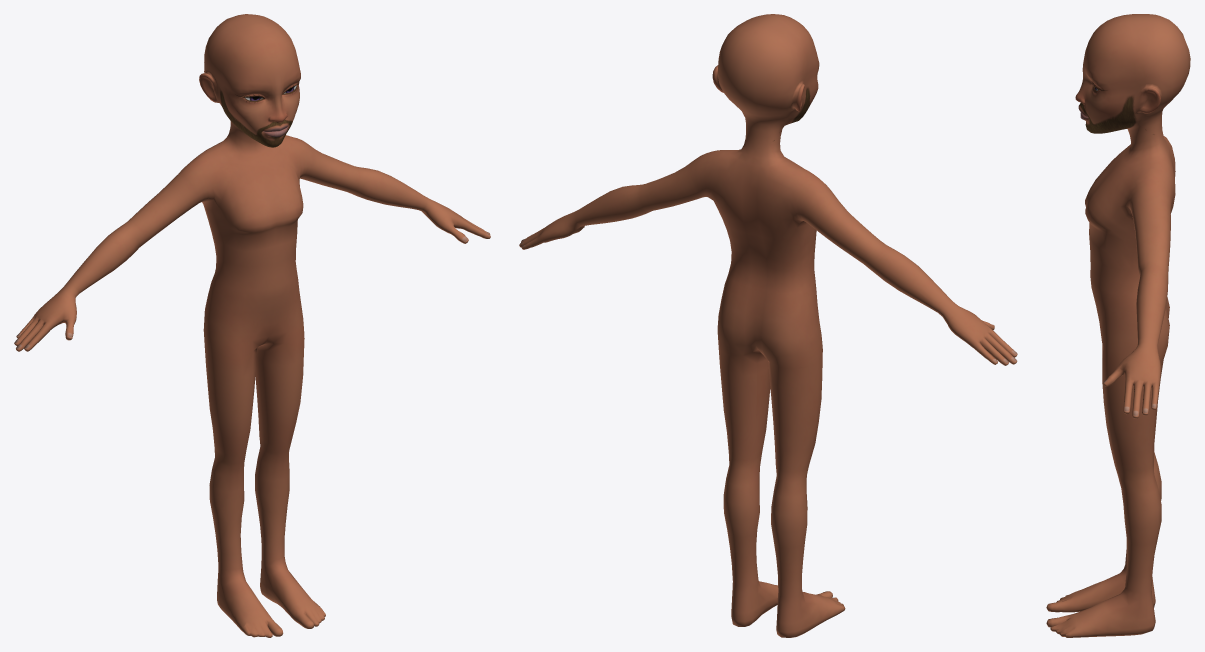
The model's file is frame_0041.glb.
The picture shows the model from 3 angles, left to right: view 1: azimuth 30°, elevation 25°; view 2: azimuth 150°, elevation 25°; view 3: azimuth 270°, elevation 25°; orthographic projection. The views are drawn at different scales.
Parts seen in each view (by area): view 1: frame_0041_head_geo; view 2: frame_0041_head_geo; view 3: frame_0041_head_geo.
Boxes of the visible parts, x1=… form: frame_0041_head_geo: x1=14, y1=14, x2=490, y2=637; frame_0041_head_geo: x1=519, y1=14, x2=1017, y2=637; frame_0041_head_geo: x1=1046, y1=14, x2=1190, y2=637.
Bounding box in the file's own units: 1.28 × 1.5 × 0.3253.
Materials: 3 (3 with a texture image).
